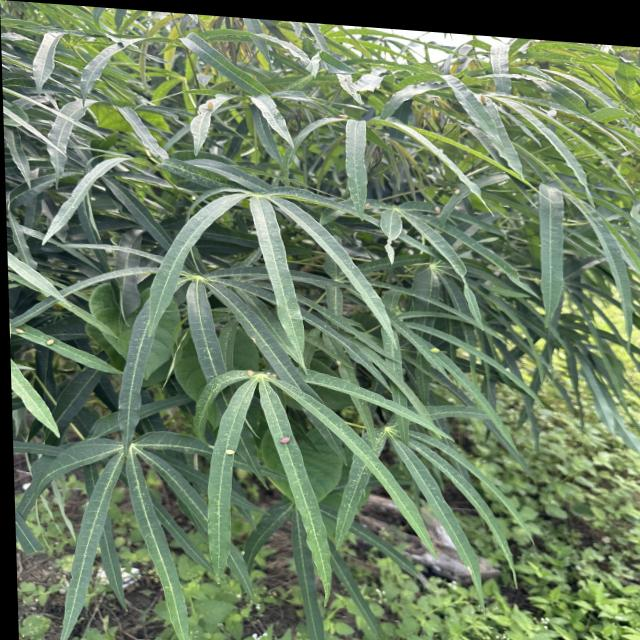Maleza: (538, 429, 640, 640), (409, 577, 640, 640)
Mosca: (241, 363, 281, 381), (273, 429, 297, 450), (476, 86, 495, 109), (424, 341, 445, 357), (220, 443, 240, 457), (201, 96, 218, 112)
